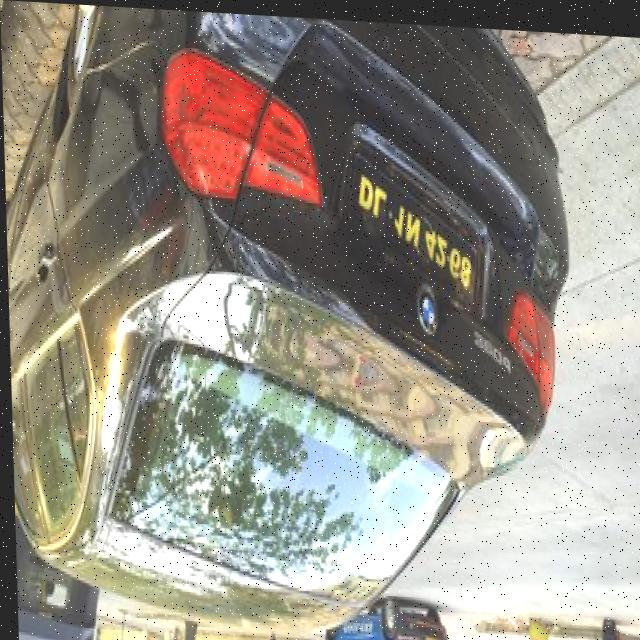plate: (346, 133, 485, 305)
